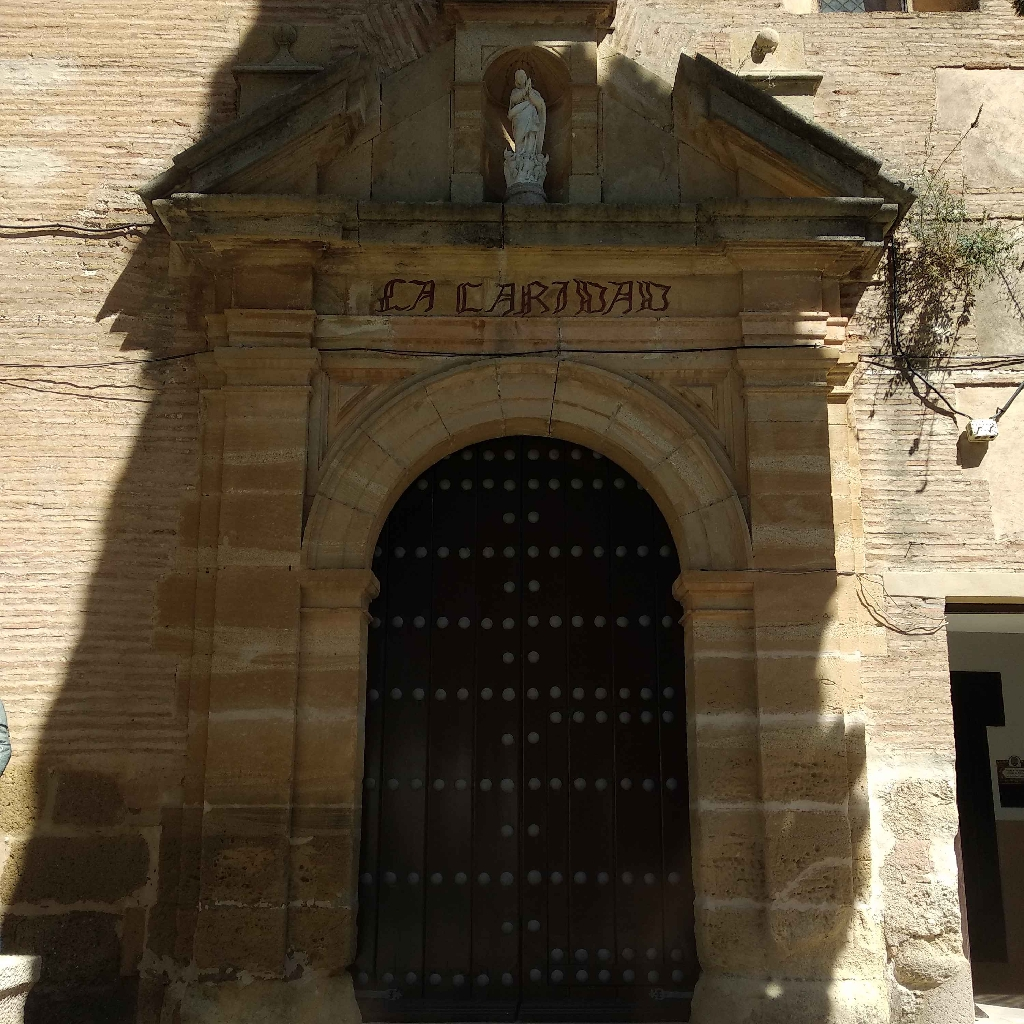arco-medio-punto: (348, 394, 710, 645), (479, 40, 577, 98)
fronton-partido: (157, 42, 929, 242)
